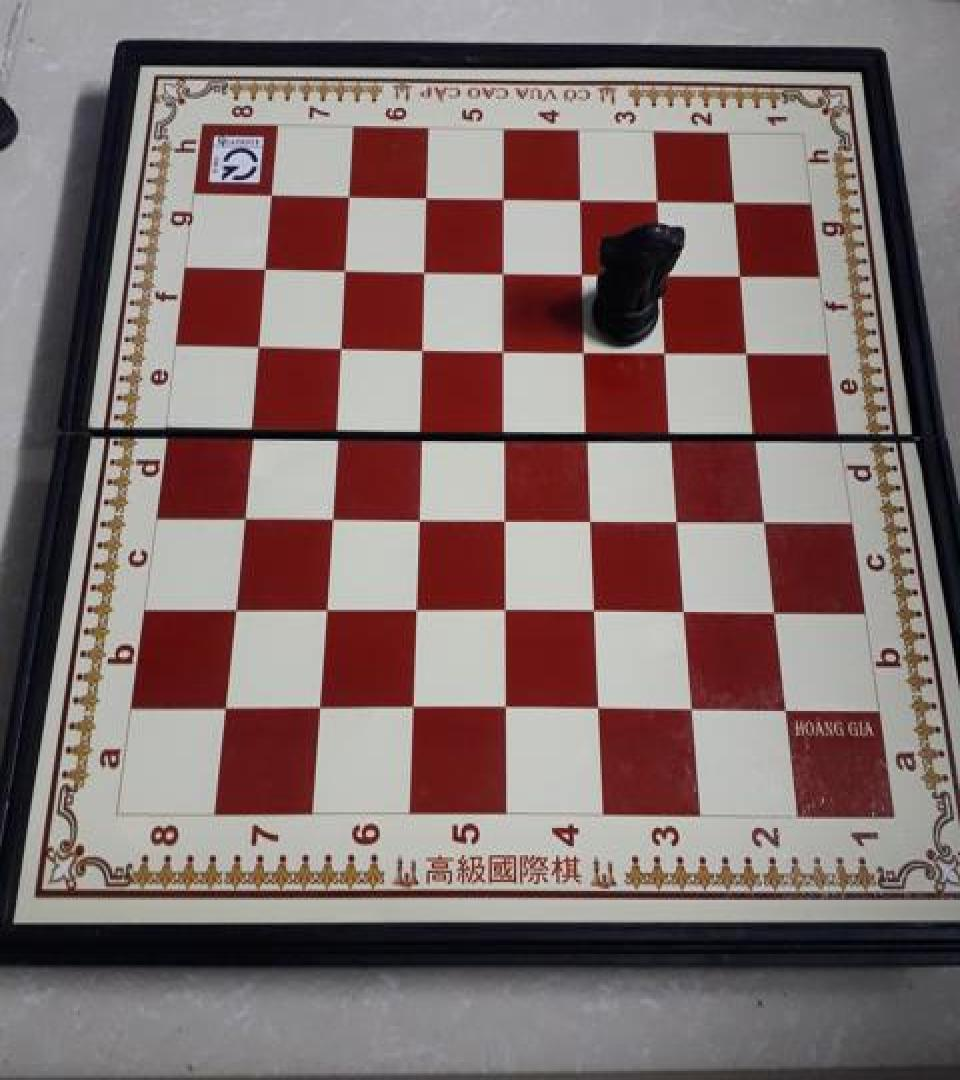xcorner: (492, 688, 524, 725), (586, 688, 618, 725), (679, 689, 711, 726), (772, 689, 804, 726), (401, 588, 433, 625), (492, 588, 524, 625), (209, 686, 241, 722), (304, 688, 336, 724), (398, 688, 430, 724), (218, 587, 250, 623), (310, 587, 342, 623), (582, 590, 614, 626), (672, 590, 704, 626), (762, 590, 794, 626), (227, 494, 259, 530), (315, 494, 347, 530), (404, 495, 436, 531), (491, 496, 523, 532), (579, 497, 611, 533), (666, 497, 698, 533), (753, 498, 785, 534), (235, 406, 267, 442), (321, 407, 353, 443), (406, 408, 438, 444), (491, 410, 523, 446), (575, 410, 607, 446), (660, 410, 692, 446), (744, 412, 776, 448), (243, 325, 275, 361), (326, 326, 358, 362), (408, 326, 440, 362), (490, 328, 522, 364), (654, 330, 686, 366), (735, 331, 767, 367), (250, 248, 282, 284), (330, 248, 362, 284), (410, 250, 442, 286), (490, 251, 522, 287), (569, 252, 601, 288), (648, 253, 680, 289), (727, 254, 759, 290), (257, 176, 289, 212), (334, 176, 366, 212), (412, 179, 444, 215), (489, 180, 521, 216), (566, 181, 598, 217), (643, 182, 675, 218), (720, 184, 752, 220), (572, 329, 604, 364)
